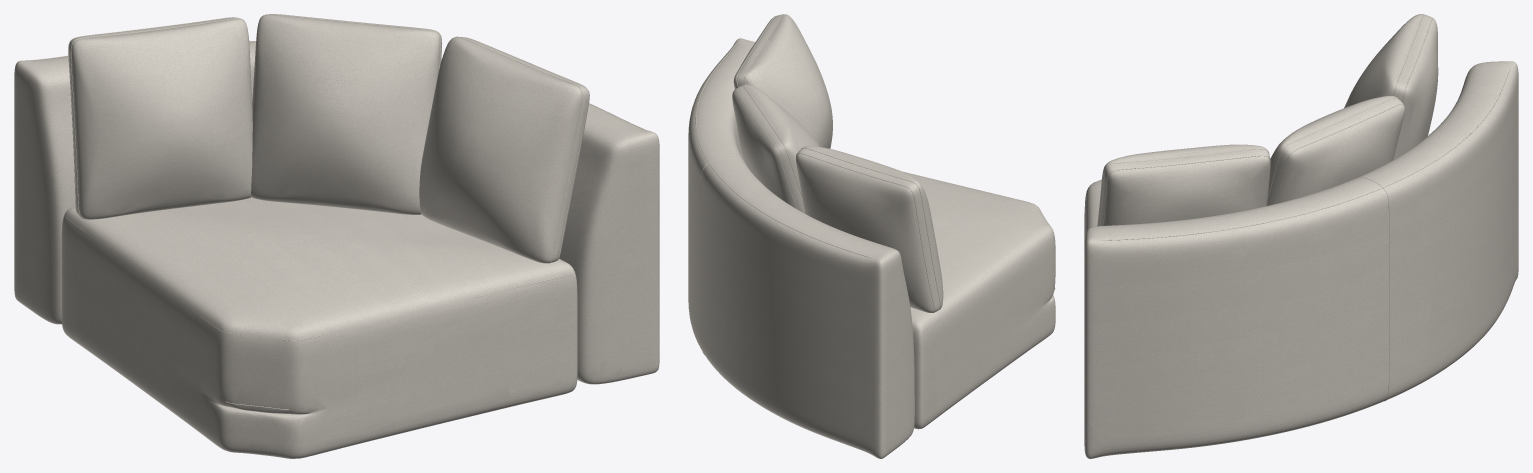
File: corner.glb
3 renders of one model, left to right at view 1: azimuth 30°, elevation 25°; view 2: azimuth 150°, elevation 25°; view 3: azimuth 270°, elevation 25°, orthographic. The views are drawn at different scales.
Size of the model in its own units: 1.13 by 0.7746 by 1.13.
1 material, 1 textured.
